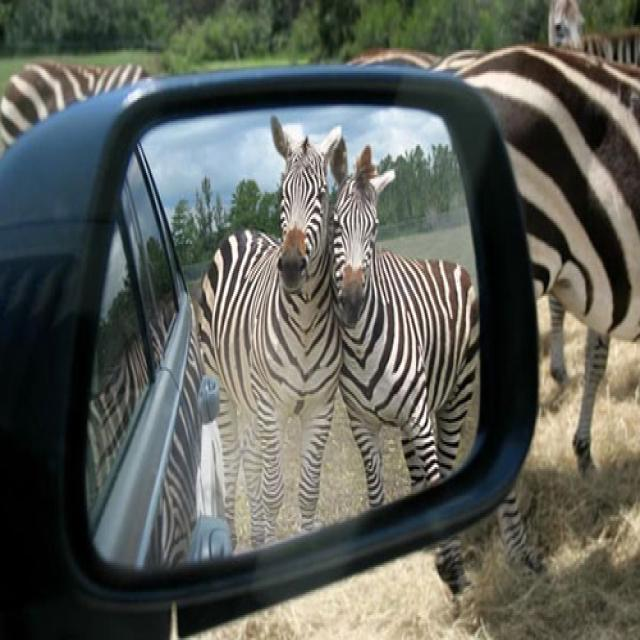Vehicle: (84, 149, 234, 563)
